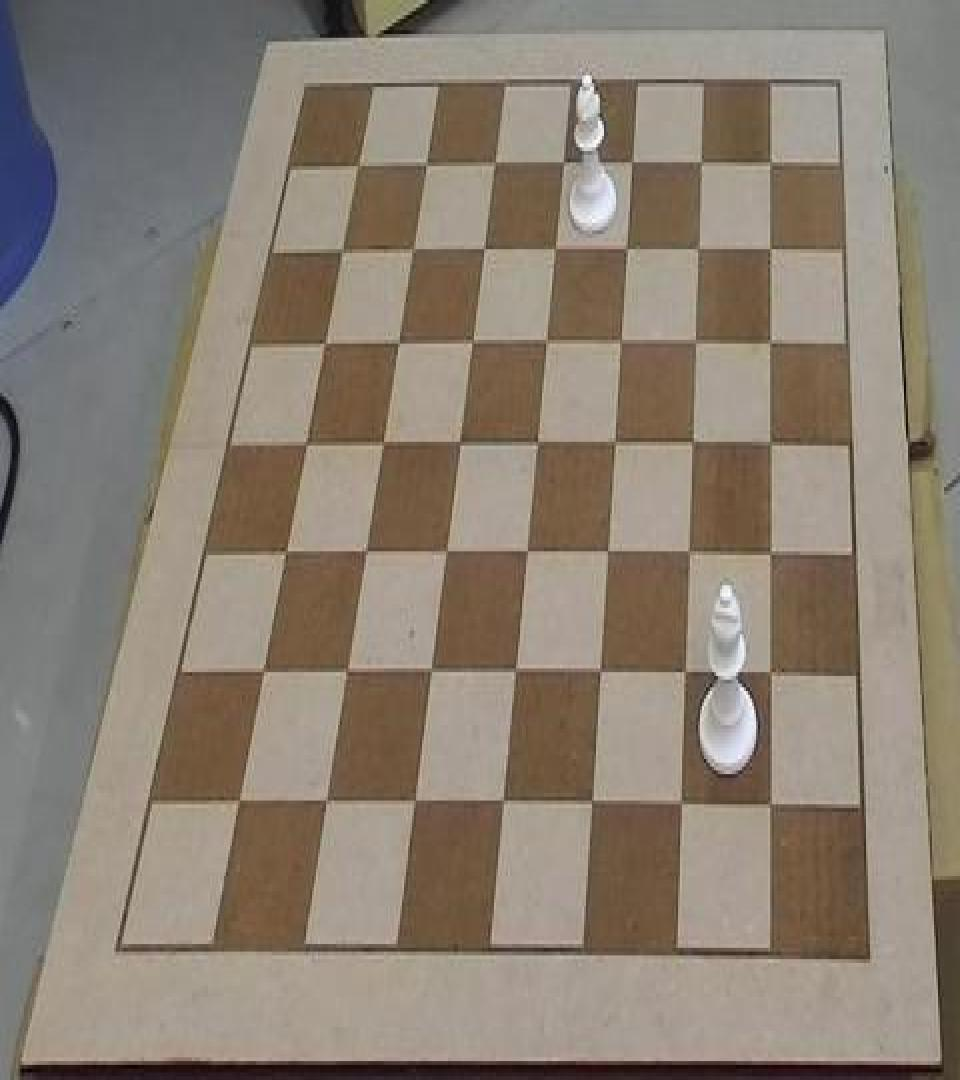xcorner: (761, 144, 781, 182), (691, 144, 711, 182), (622, 144, 642, 182), (553, 144, 573, 182), (484, 144, 504, 182), (416, 144, 436, 182), (348, 144, 368, 182), (761, 230, 781, 268), (689, 230, 709, 268), (617, 230, 637, 268), (545, 228, 565, 266), (474, 228, 494, 266), (403, 228, 423, 266), (332, 228, 352, 266), (761, 324, 781, 362), (686, 322, 706, 360), (611, 322, 631, 360), (536, 322, 556, 360), (462, 321, 482, 359), (388, 321, 408, 359), (315, 321, 335, 359), (762, 426, 782, 464), (683, 424, 703, 462), (605, 424, 625, 462), (527, 423, 547, 461), (449, 423, 469, 461), (372, 421, 392, 459), (296, 421, 316, 459), (762, 536, 782, 574), (680, 536, 700, 574), (598, 534, 618, 572), (517, 532, 537, 570), (436, 532, 456, 570), (355, 530, 375, 568), (275, 528, 295, 566), (762, 659, 782, 697), (676, 657, 696, 695), (591, 655, 611, 693), (506, 653, 526, 691), (421, 652, 441, 690), (337, 650, 357, 688), (253, 650, 273, 688), (763, 791, 783, 829), (672, 789, 692, 827), (583, 787, 603, 825), (493, 786, 513, 824), (404, 784, 424, 822), (316, 782, 336, 820), (228, 780, 248, 818)
